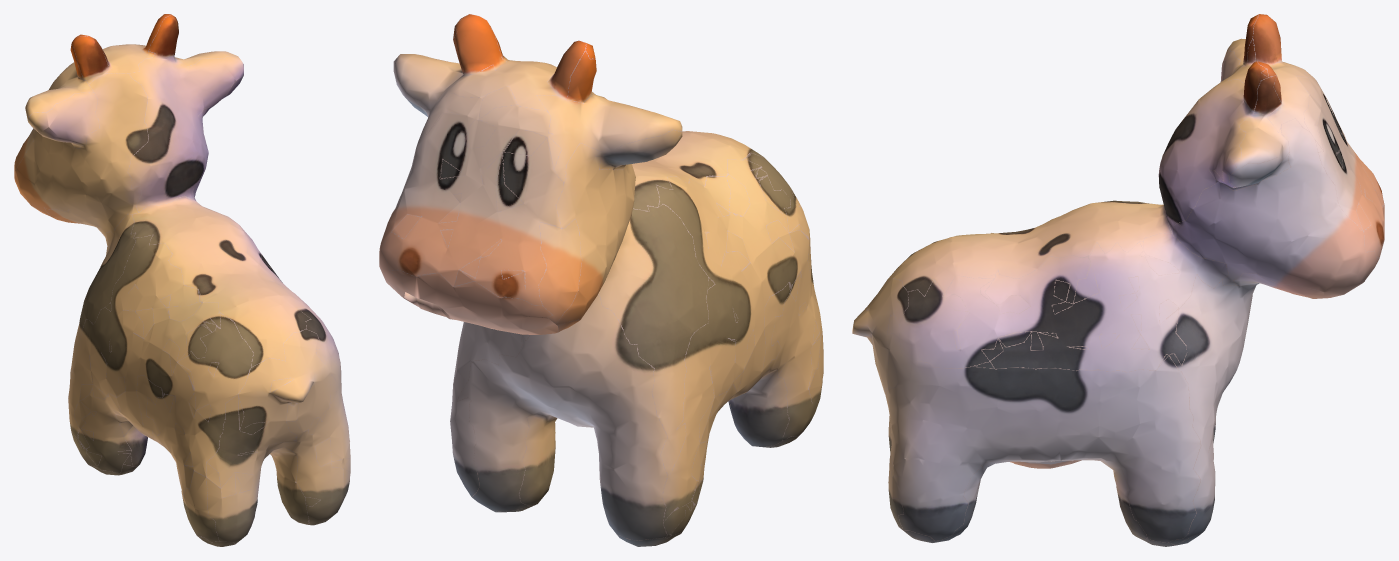
3 renders of one model, left to right at view 1: azimuth 30°, elevation 25°; view 2: azimuth 150°, elevation 25°; view 3: azimuth 270°, elevation 25°, orthographic. The views are drawn at different scales.
Visible parts, largest first — view 1: pMesh1; view 2: pMesh1; view 3: pMesh1.
Part boxes in pixels (x1,y1,x2,y2): pMesh1: [14, 14, 350, 546]; pMesh1: [379, 14, 823, 546]; pMesh1: [852, 14, 1384, 546].
Size of the model in its own units: 0.942 by 1.69 by 1.72.
Materials: 1 (1 with a texture image).
